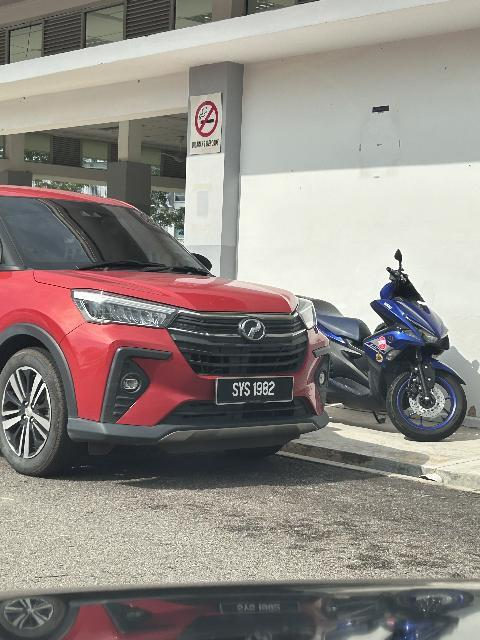License_Plate: (214, 375, 295, 409)
SYS1982: (214, 375, 295, 409)
car: (1, 171, 327, 485)
motorcycle: (285, 242, 475, 449)
